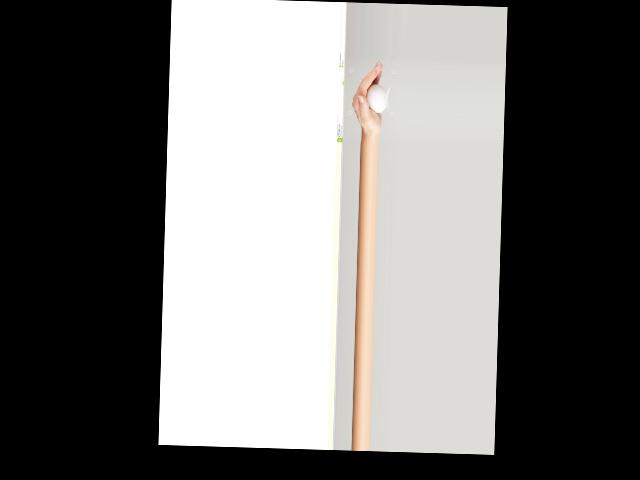egg: (365, 83, 386, 113)
